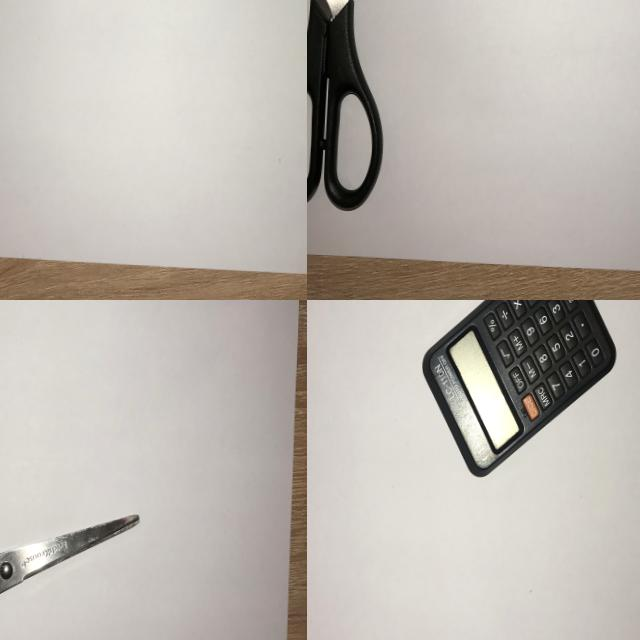calculator: (413, 300, 624, 486)
scissors: (0, 495, 147, 640), (307, 0, 402, 218)
